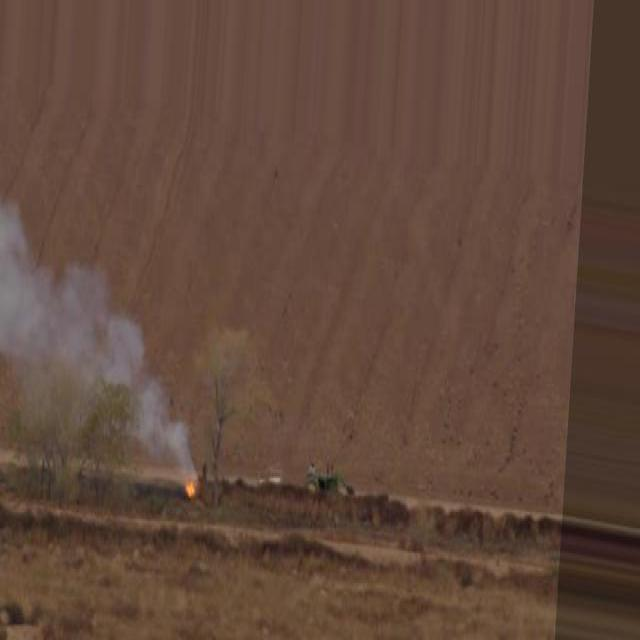fire: (177, 459, 203, 514)
